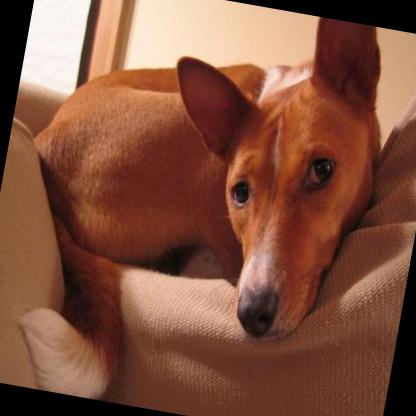basenji: (0, 0, 400, 416)
